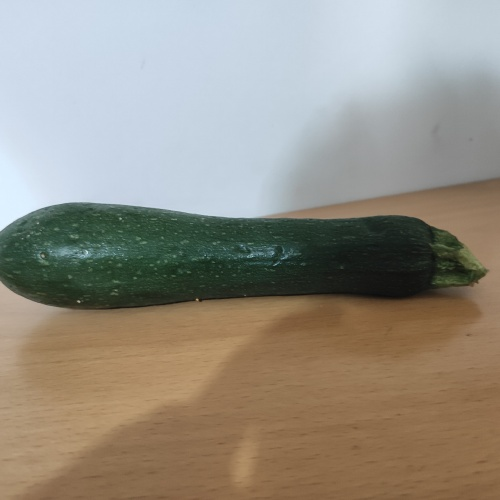zucchine: (17, 200, 482, 317)
